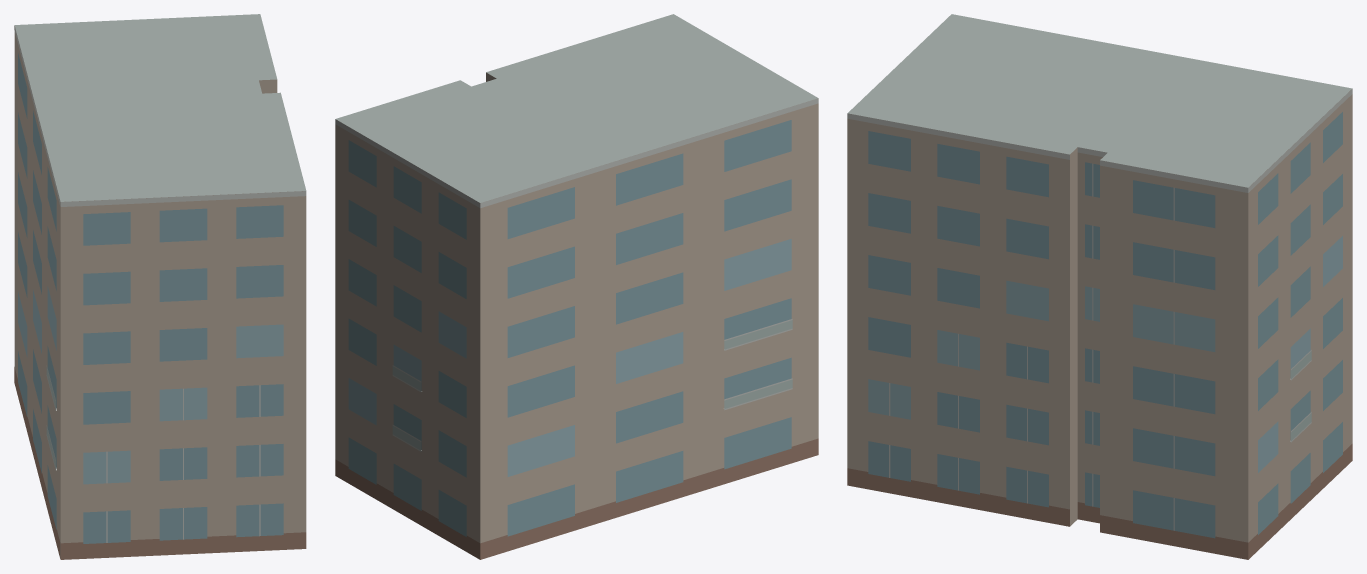
The model's file is survey-upis-32531506.glb.
3 renders of one model, left to right at view 1: azimuth 30°, elevation 25°; view 2: azimuth 150°, elevation 25°; view 3: azimuth 270°, elevation 25°, orthographic. The views are drawn at different scales.
Parts seen in each view (by area): view 1: survey-upis-32531506.tmp; view 2: survey-upis-32531506.tmp; view 3: survey-upis-32531506.tmp.
Boxes of the visible parts, x1,y1,x2,y2 form: survey-upis-32531506.tmp: (14,14,306,559); survey-upis-32531506.tmp: (335,14,818,559); survey-upis-32531506.tmp: (847,14,1352,559).
Bounding box in the file's own units: 16.93 × 16.9 × 20.8.
